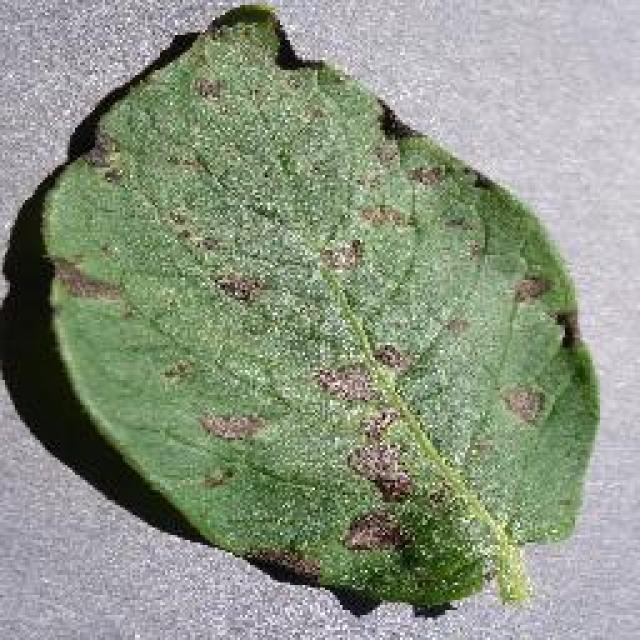early_blight: (30, 0, 605, 615)
